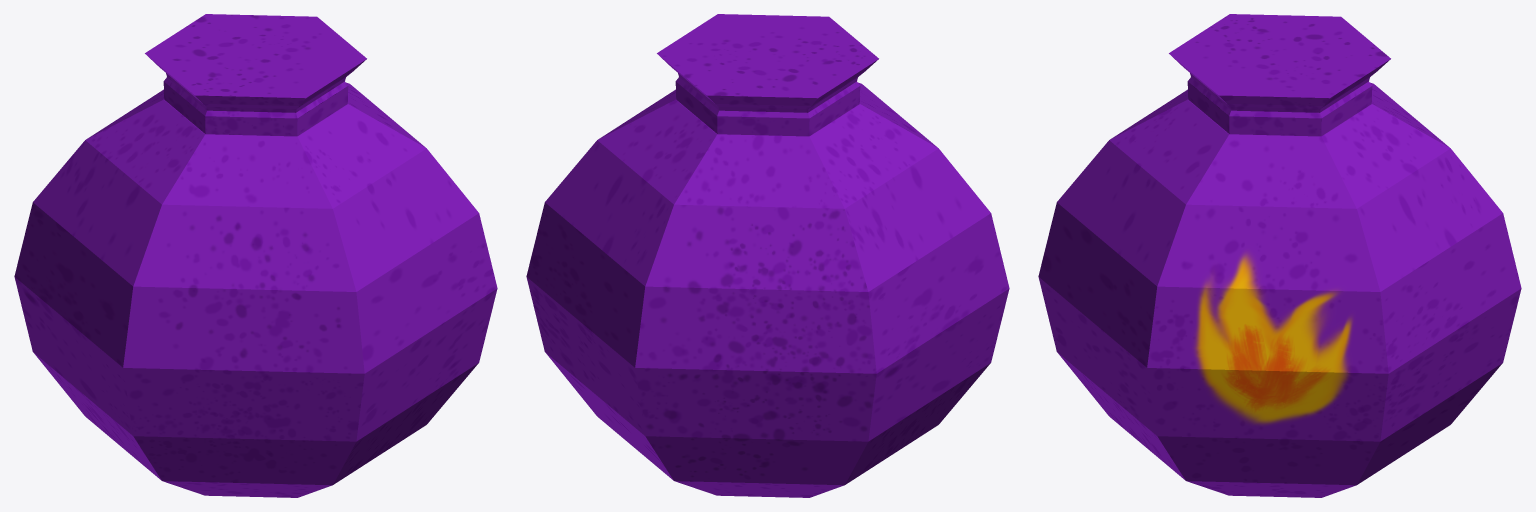
The model's file is boom.fbx.
3 renders of one model, left to right at view 1: azimuth 30°, elevation 25°; view 2: azimuth 150°, elevation 25°; view 3: azimuth 270°, elevation 25°, orthographic.
Parts seen in each view (by area): view 1: Сфера.001; view 2: Сфера.001; view 3: Сфера.001.
Part boxes in pixels (box(x1,y1,x2,y2)): Сфера.001: box(14, 14, 497, 497); Сфера.001: box(526, 14, 1009, 497); Сфера.001: box(1038, 14, 1521, 497).
Bounding box in the file's own units: 200 × 216 × 224.
1 material, 1 textured.
